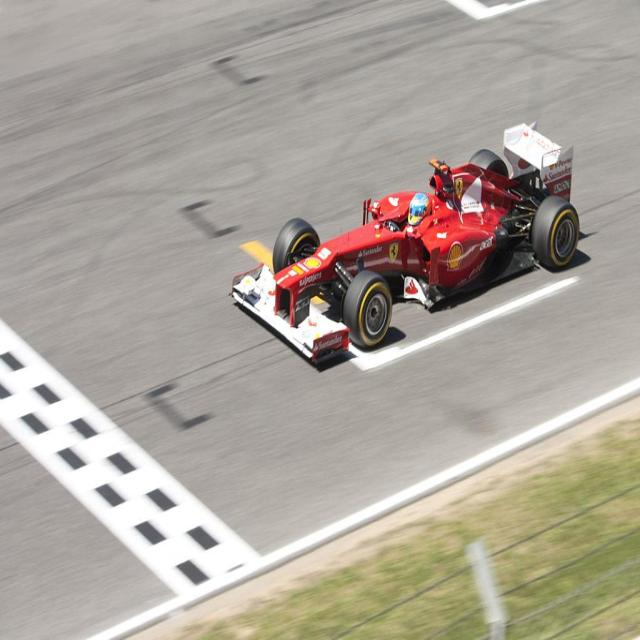car: (230, 123, 581, 368)
